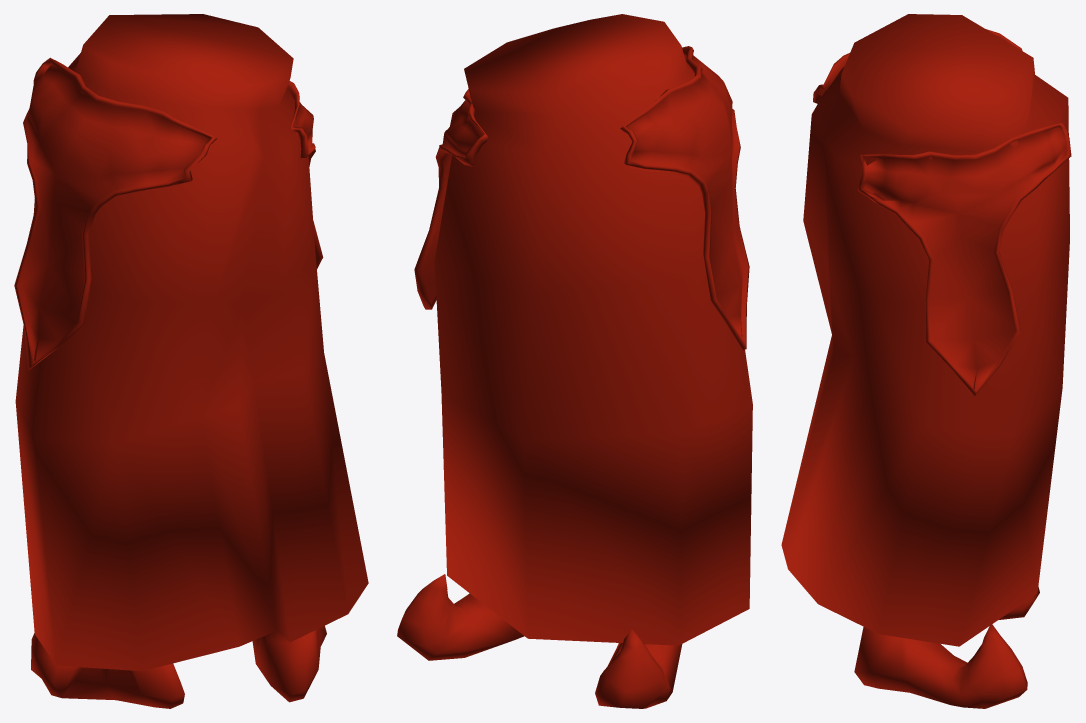
File: bot_000143.obj
3 renders of one model, left to right at view 1: azimuth 30°, elevation 25°; view 2: azimuth 150°, elevation 25°; view 3: azimuth 270°, elevation 25°, orthographic. The views are drawn at different scales.
Visible parts, largest first — view 1: LowPoly_Warlock.004_Plane.004; view 2: LowPoly_Warlock.004_Plane.004; view 3: LowPoly_Warlock.004_Plane.004.
Part boxes in pixels (box(x1,y1,x2,y2)): LowPoly_Warlock.004_Plane.004: box(14, 14, 368, 708); LowPoly_Warlock.004_Plane.004: box(397, 14, 752, 708); LowPoly_Warlock.004_Plane.004: box(781, 14, 1071, 708).
Bounding box in the file's own units: 0.5745 × 1.13 × 0.4948.
